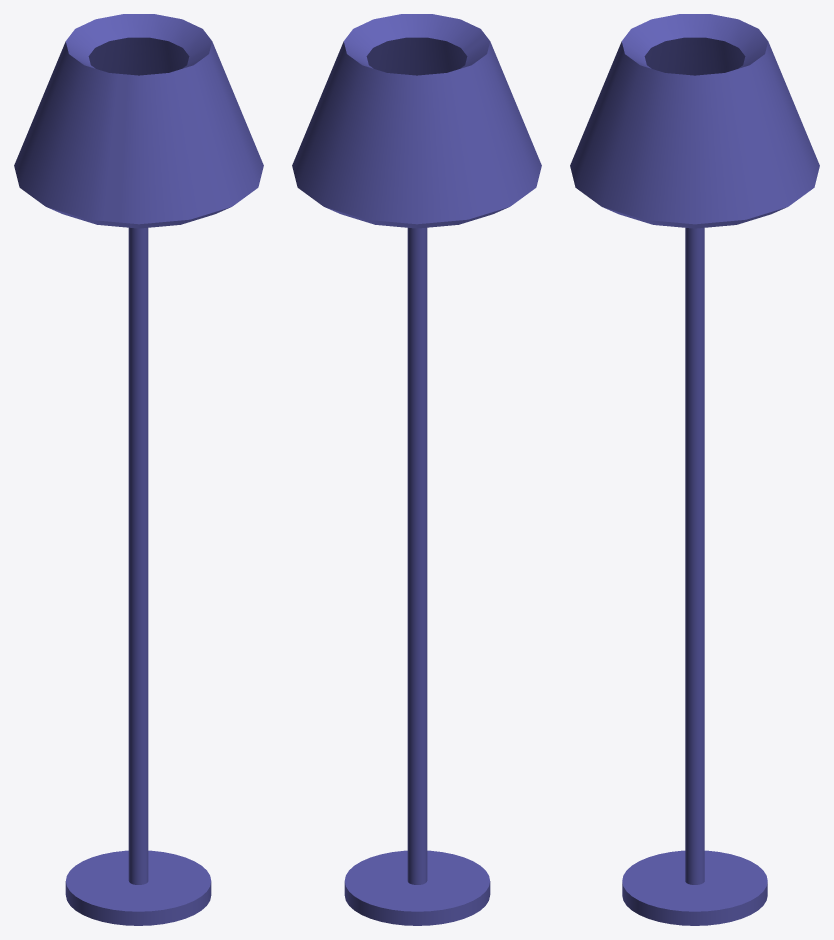
Rendered from lamp.fbx.
3 renders of one model, left to right at view 1: azimuth 30°, elevation 25°; view 2: azimuth 150°, elevation 25°; view 3: azimuth 270°, elevation 25°, orthographic.
Parts seen in each view (by area): view 1: Disc_1; view 2: Disc_1; view 3: Disc_1.
Part boxes in pixels (x1=…): Disc_1: x1=14, y1=14, x2=263, y2=925; Disc_1: x1=292, y1=14, x2=541, y2=925; Disc_1: x1=570, y1=14, x2=819, y2=925.
Bounding box in the file's own units: 38.11 × 144 × 38.32.
